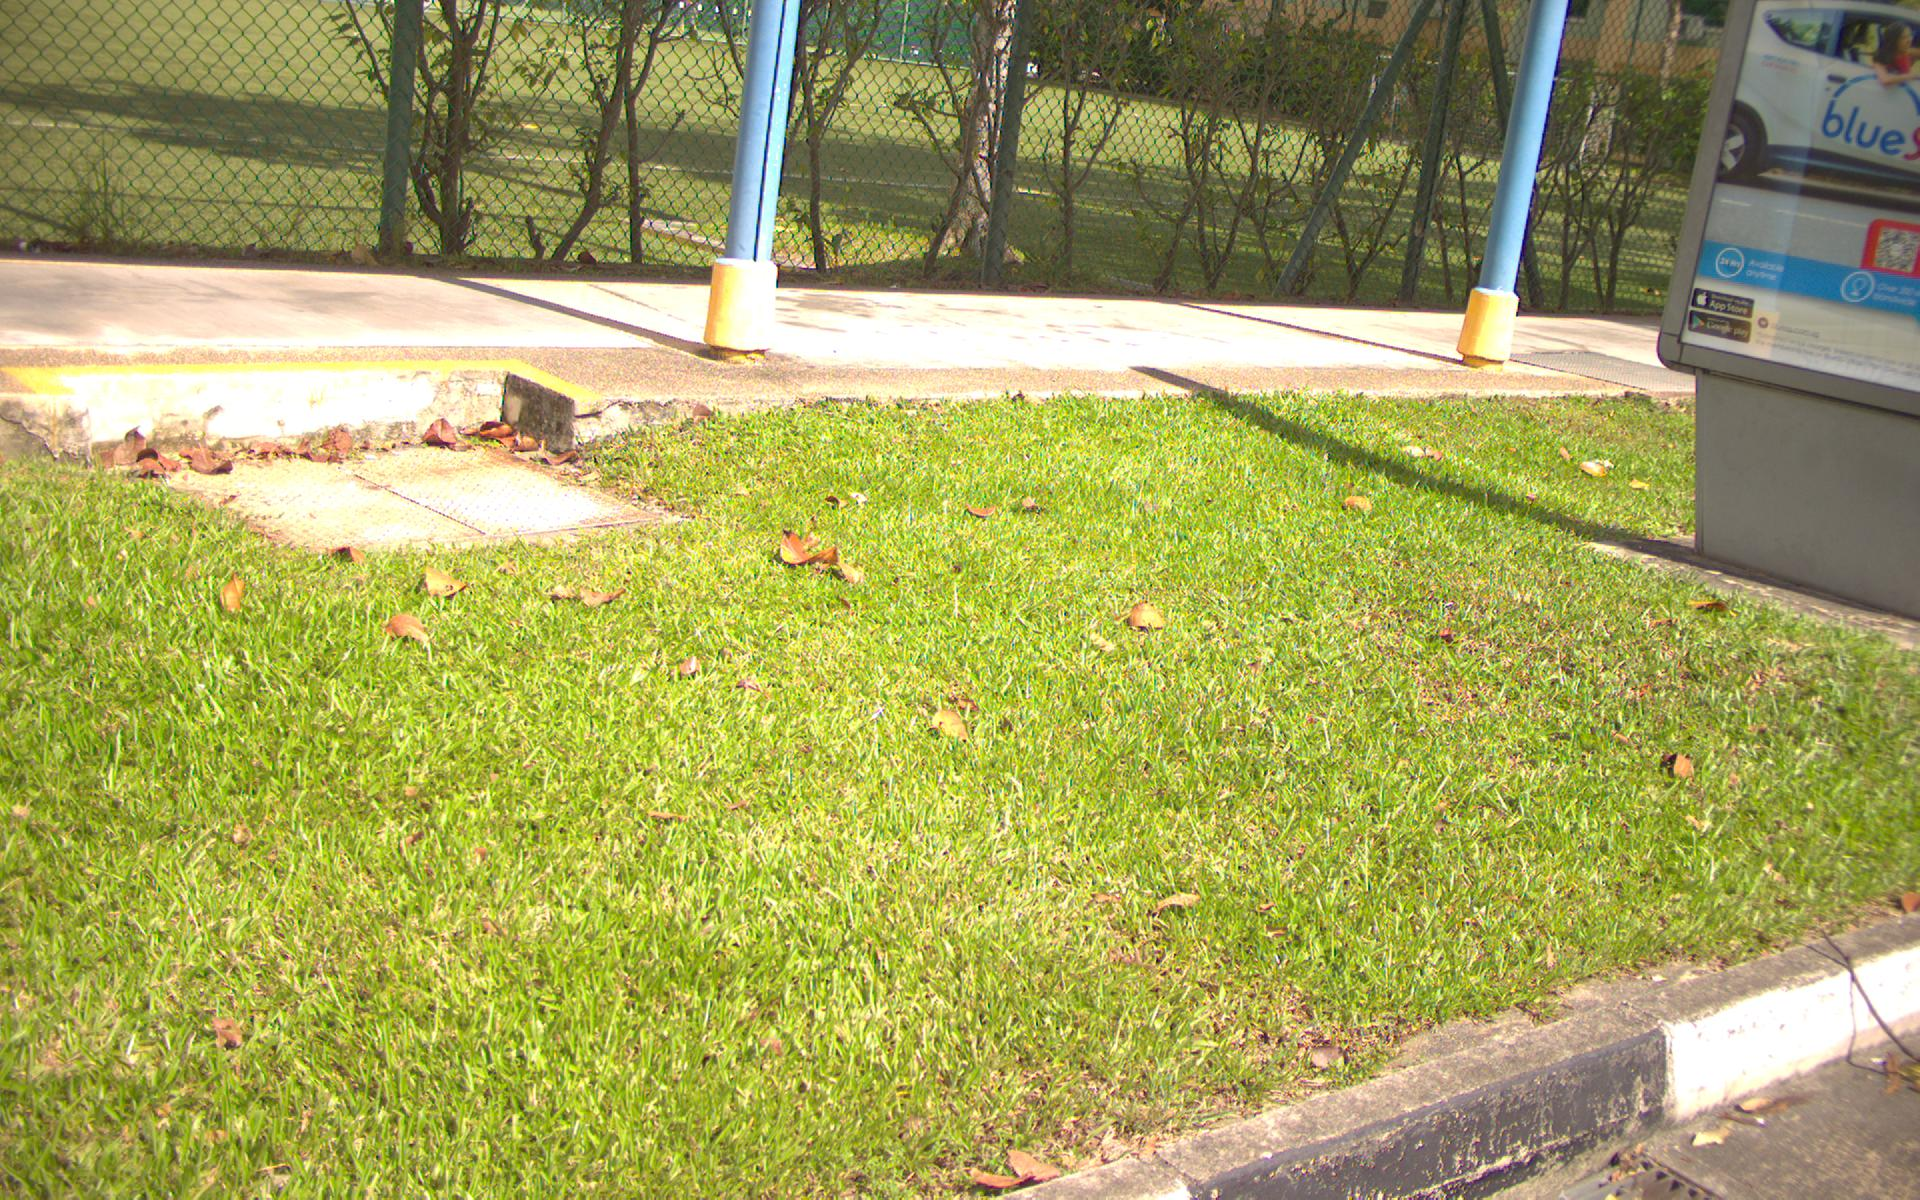pathway_low: (8, 308, 1634, 395)
road_turf_low: (17, 476, 1908, 918)
